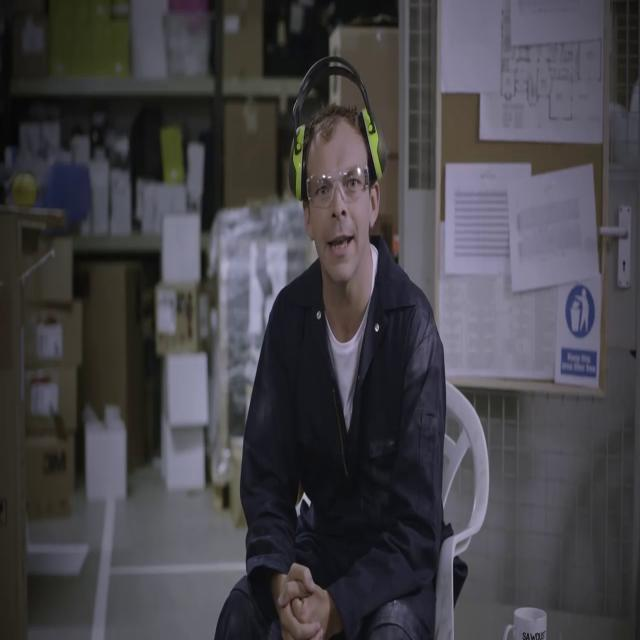earmuff: (358, 109, 390, 183), (288, 122, 310, 204)
glasses: (301, 166, 373, 203)
